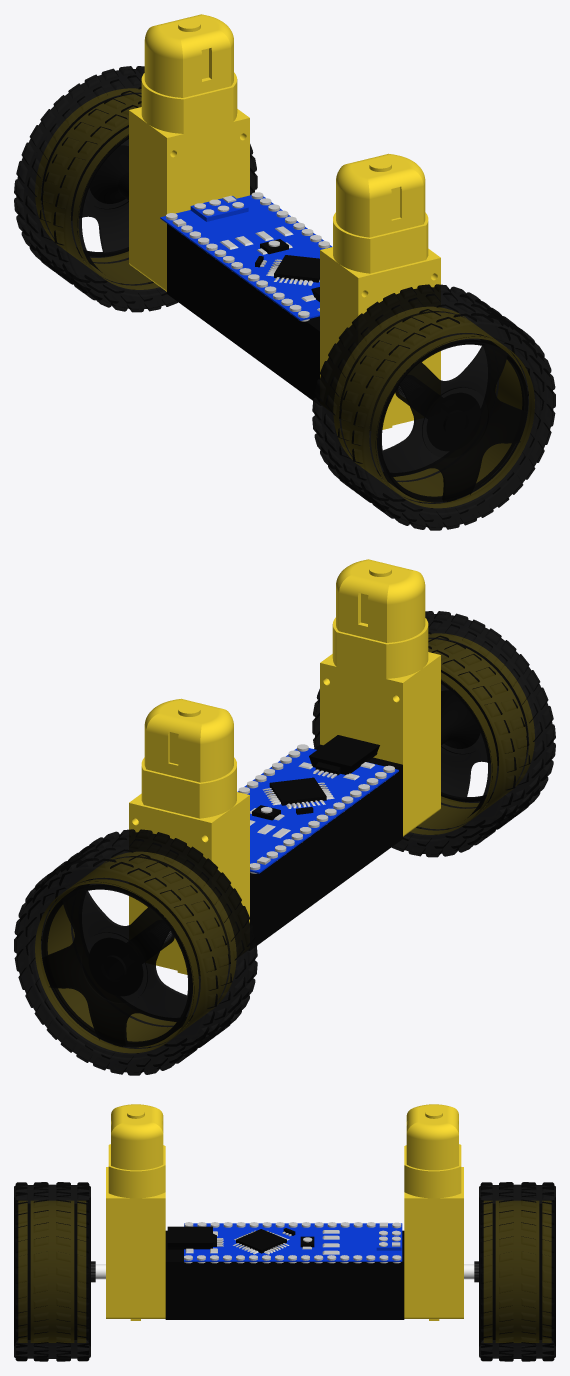
File: Arduino.glb
3 views of the same model, one above another, from view 1: azimuth 30°, elevation 25°; view 2: azimuth 150°, elevation 25°; view 3: azimuth 270°, elevation 25° (orthographic). The views are drawn at different scales.
Visible parts, largest first — view 1: wheel(BCE30D5E-7C42-45BC-BF5C-AA06AE76DDC4), wheel(EF7C8F6A-D142-46D6-BF14-680B55117D13), motor(6E7C6635-5C38-449D-8DD3-0E2DF14EBBA0), motor(9E1A3BA1-F6D5-4B94-89CE-26A4FED1DC66), wheel+motor(4695E13F-DE50-4C5A-91E0-5926DE52CDC2), wheel(2BC38C58-1953-49AD-A767-D57A3023F0A9), wheel+motor(F5524CE6-045B-44C5-B92C-A56B7CEB6B2C), wheel(DC925089-5A6C-421A-BF23-C5EE7D8FBB39), wheel(EC40F806-4BD9-46F5-8765-1738EACB93AA), wheel+motor(E947673D-E09F-4CAC-90C1-D7380630819E), wheel(A81C26A5-F5FD-4E99-9B6E-7C4D3FBB5ECF), wheel+motor(64D43DAD-3A2B-40BD-A27D-C5E4389BC33C) (+3 smaller); view 2: wheel(EF7C8F6A-D142-46D6-BF14-680B55117D13), wheel(BCE30D5E-7C42-45BC-BF5C-AA06AE76DDC4), motor(9E1A3BA1-F6D5-4B94-89CE-26A4FED1DC66), motor(6E7C6635-5C38-449D-8DD3-0E2DF14EBBA0), wheel+motor(4695E13F-DE50-4C5A-91E0-5926DE52CDC2), wheel(DC925089-5A6C-421A-BF23-C5EE7D8FBB39), wheel(2BC38C58-1953-49AD-A767-D57A3023F0A9), wheel+motor(F5524CE6-045B-44C5-B92C-A56B7CEB6B2C), wheel+motor(64D43DAD-3A2B-40BD-A27D-C5E4389BC33C), wheel(3ECCF23D-952B-4E20-90D8-A8678CE90131), wheel+motor(E947673D-E09F-4CAC-90C1-D7380630819E), wheel(3A1440C6-D6B3-4723-90C2-44773FB29E9D) (+3 smaller); view 3: wheel+motor(4695E13F-DE50-4C5A-91E0-5926DE52CDC2), wheel(BCE30D5E-7C42-45BC-BF5C-AA06AE76DDC4), wheel(EF7C8F6A-D142-46D6-BF14-680B55117D13), motor(9E1A3BA1-F6D5-4B94-89CE-26A4FED1DC66), motor(6E7C6635-5C38-449D-8DD3-0E2DF14EBBA0), wheel(2BC38C58-1953-49AD-A767-D57A3023F0A9), wheel(DC925089-5A6C-421A-BF23-C5EE7D8FBB39), wheel+motor(F5524CE6-045B-44C5-B92C-A56B7CEB6B2C), wheel+motor(64D43DAD-3A2B-40BD-A27D-C5E4389BC33C), wheel+motor(E947673D-E09F-4CAC-90C1-D7380630819E), wheel(EC40F806-4BD9-46F5-8765-1738EACB93AA), wheel(3ECCF23D-952B-4E20-90D8-A8678CE90131) (+3 smaller).
Part boxes in pixels (x1,y1,x2,y2): wheel(BCE30D5E-7C42-45BC-BF5C-AA06AE76DDC4): (312,284,555,530); wheel(EF7C8F6A-D142-46D6-BF14-680B55117D13): (14,66,257,312); motor(6E7C6635-5C38-449D-8DD3-0E2DF14EBBA0): (129,14,249,291); motor(9E1A3BA1-F6D5-4B94-89CE-26A4FED1DC66): (320,153,440,429); wheel+motor(4695E13F-DE50-4C5A-91E0-5926DE52CDC2): (167,224,319,400); wheel(2BC38C58-1953-49AD-A767-D57A3023F0A9): (341,312,522,502); wheel+motor(F5524CE6-045B-44C5-B92C-A56B7CEB6B2C): (160,195,332,320); wheel(DC925089-5A6C-421A-BF23-C5EE7D8FBB39): (43,94,150,283); wheel(EC40F806-4BD9-46F5-8765-1738EACB93AA): (371,334,534,507); wheel+motor(E947673D-E09F-4CAC-90C1-D7380630819E): (166,192,330,321); wheel(A81C26A5-F5FD-4E99-9B6E-7C4D3FBB5ECF): (333,307,496,480); wheel+motor(64D43DAD-3A2B-40BD-A27D-C5E4389BC33C): (255,239,319,301); wheel(EF7C8F6A-D142-46D6-BF14-680B55117D13): (14,829,257,1075); wheel(BCE30D5E-7C42-45BC-BF5C-AA06AE76DDC4): (312,611,555,857); motor(9E1A3BA1-F6D5-4B94-89CE-26A4FED1DC66): (320,559,440,836); motor(6E7C6635-5C38-449D-8DD3-0E2DF14EBBA0): (129,698,249,974); wheel+motor(4695E13F-DE50-4C5A-91E0-5926DE52CDC2): (250,744,402,945); wheel(DC925089-5A6C-421A-BF23-C5EE7D8FBB39): (47,857,228,1047); wheel(2BC38C58-1953-49AD-A767-D57A3023F0A9): (419,639,526,828); wheel+motor(F5524CE6-045B-44C5-B92C-A56B7CEB6B2C): (237,748,398,873); wheel+motor(64D43DAD-3A2B-40BD-A27D-C5E4389BC33C): (252,735,379,820); wheel(3ECCF23D-952B-4E20-90D8-A8678CE90131): (35,879,198,1052); wheel+motor(E947673D-E09F-4CAC-90C1-D7380630819E): (238,744,394,873); wheel(3A1440C6-D6B3-4723-90C2-44773FB29E9D): (73,852,236,1025); wheel+motor(4695E13F-DE50-4C5A-91E0-5926DE52CDC2): (165,1230,404,1319); wheel(BCE30D5E-7C42-45BC-BF5C-AA06AE76DDC4): (14,1182,95,1361); wheel(EF7C8F6A-D142-46D6-BF14-680B55117D13): (474,1182,555,1361); motor(9E1A3BA1-F6D5-4B94-89CE-26A4FED1DC66): (106,1104,165,1320); motor(6E7C6635-5C38-449D-8DD3-0E2DF14EBBA0): (404,1104,463,1320); wheel(2BC38C58-1953-49AD-A767-D57A3023F0A9): (31,1201,73,1342); wheel(DC925089-5A6C-421A-BF23-C5EE7D8FBB39): (496,1201,538,1342); wheel+motor(F5524CE6-045B-44C5-B92C-A56B7CEB6B2C): (184,1223,402,1261); wheel+motor(64D43DAD-3A2B-40BD-A27D-C5E4389BC33C): (167,1226,314,1253); wheel+motor(E947673D-E09F-4CAC-90C1-D7380630819E): (184,1222,401,1263); wheel(EC40F806-4BD9-46F5-8765-1738EACB93AA): (18,1201,27,1342); wheel(3ECCF23D-952B-4E20-90D8-A8678CE90131): (542,1201,551,1342).
Size of the model in its own units: 0.0602 by 0.0891 by 0.1818.
